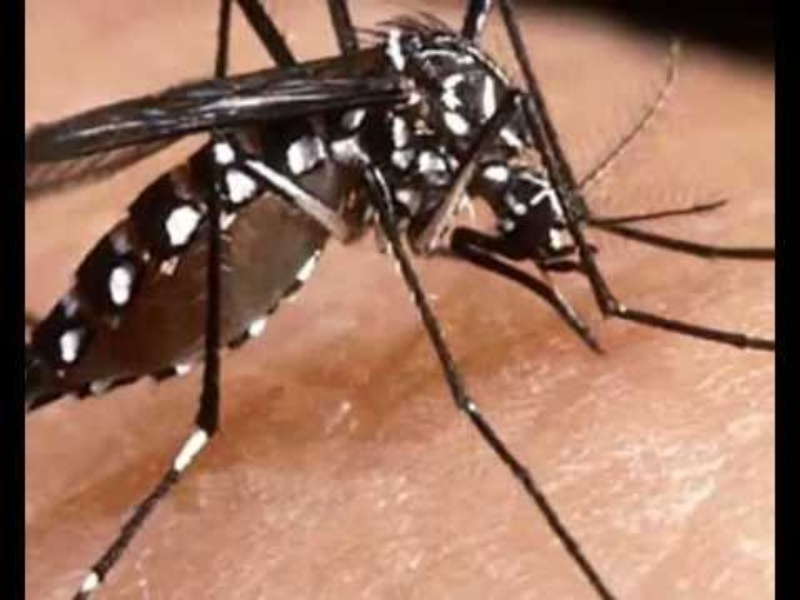dengue_mosquito: (24, 10, 627, 406)
